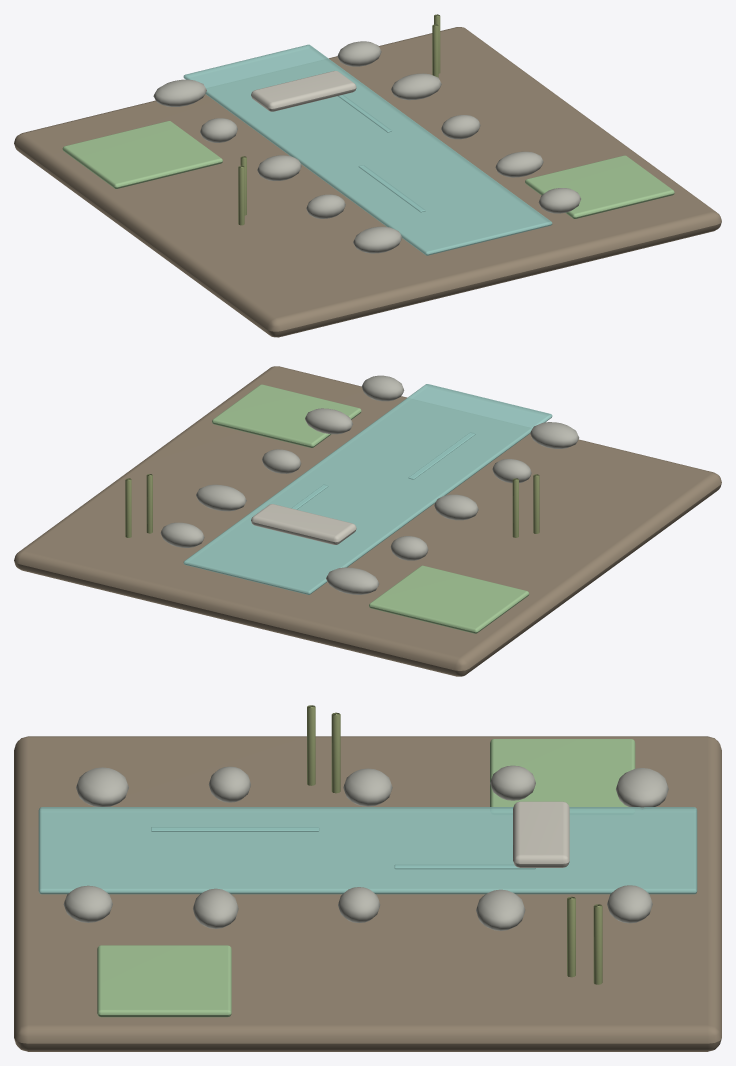
File: garden_stone_runnel.glb
The picture shows the model from 3 angles, top to bottom: view 1: azimuth 30°, elevation 25°; view 2: azimuth 150°, elevation 25°; view 3: azimuth 270°, elevation 25°; orthographic projection. The views are drawn at different scales.
Parts seen in each view (by area): view 1: garden_tile_base, garden_water, garden_grass_patch_a, garden_grass_patch_b, garden_stepping_stone, garden_edge_stone_4, garden_edge_stone_8, garden_edge_stone_0, garden_edge_stone_6, garden_edge_stone_2, garden_edge_stone_9, garden_edge_stone_5 (+3 smaller); view 2: garden_tile_base, garden_water, garden_grass_patch_a, garden_grass_patch_b, garden_stepping_stone, garden_edge_stone_4, garden_edge_stone_8, garden_edge_stone_0, garden_edge_stone_6, garden_edge_stone_2, garden_edge_stone_9, garden_edge_stone_5 (+3 smaller); view 3: garden_tile_base, garden_water, garden_grass_patch_b, garden_grass_patch_a, garden_stepping_stone, garden_edge_stone_4, garden_edge_stone_0, garden_edge_stone_8, garden_edge_stone_2, garden_edge_stone_6, garden_edge_stone_5, garden_edge_stone_9 (+9 smaller).
Boxes of the visible parts, x1,y1,x2,y2 form: garden_tile_base: (14,27,721,337); garden_water: (183,44,552,255); garden_grass_patch_a: (62,121,222,188); garden_grass_patch_b: (525,155,674,218); garden_stepping_stone: (251,71,356,111); garden_edge_stone_4: (153,79,206,106); garden_edge_stone_8: (391,73,441,100); garden_edge_stone_0: (353,226,402,253); garden_edge_stone_6: (495,151,543,177); garden_edge_stone_2: (257,155,301,181); garden_edge_stone_9: (337,41,381,66); garden_edge_stone_5: (538,188,580,213); garden_tile_base: (14,366,721,676); garden_water: (183,384,552,594); garden_grass_patch_a: (369,565,529,633); garden_grass_patch_b: (212,384,361,447); garden_stepping_stone: (251,504,356,544); garden_edge_stone_4: (326,567,379,594); garden_edge_stone_8: (196,484,246,511); garden_edge_stone_0: (530,422,579,448); garden_edge_stone_6: (305,408,352,434); garden_edge_stone_2: (434,494,478,520); garden_edge_stone_9: (160,522,204,547); garden_edge_stone_5: (361,375,404,401); garden_tile_base: (14,736,721,1051); garden_water: (38,807,697,894); garden_grass_patch_b: (97,945,231,1017); garden_grass_patch_a: (490,739,635,806); garden_stepping_stone: (513,801,569,867); garden_edge_stone_4: (616,768,668,809); garden_edge_stone_0: (76,767,128,806); garden_edge_stone_8: (476,889,525,930); garden_edge_stone_2: (343,768,392,806); garden_edge_stone_6: (193,888,238,928); garden_edge_stone_5: (63,885,112,922); garden_edge_stone_9: (607,885,652,923).
Bounding box in the file's own units: 4 × 0.64 × 4.
